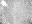person: (1, 1, 7, 7)
